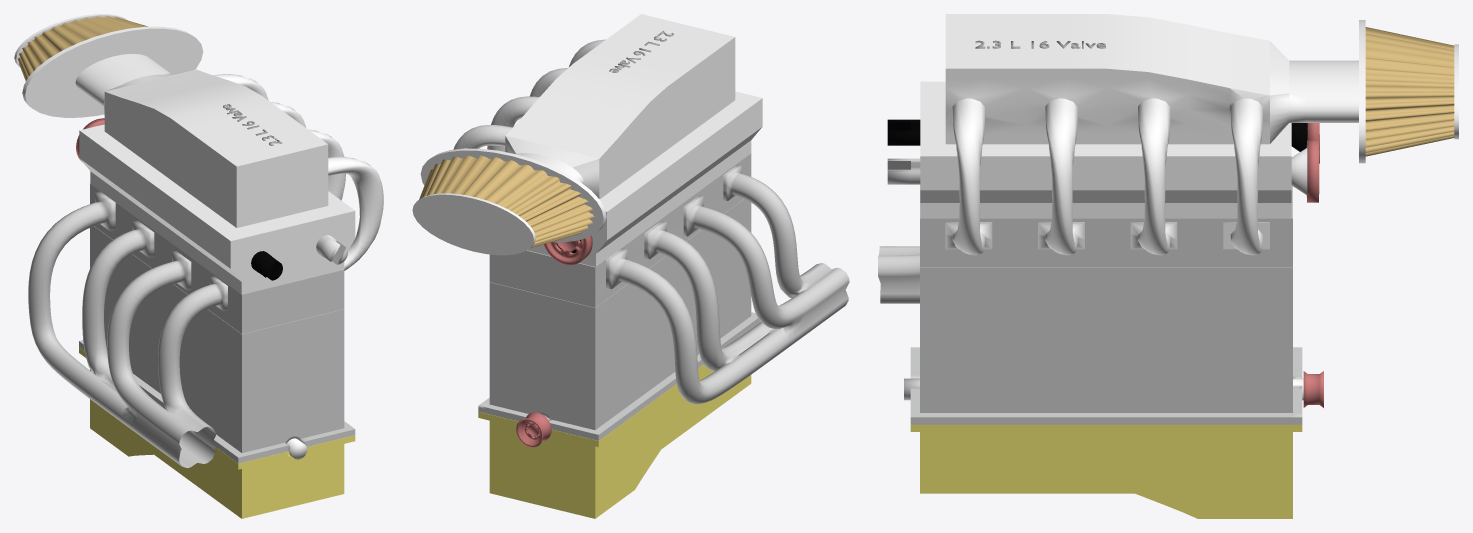
The model's file is Gas_Engine.glb.
3 renders of one model, left to right at view 1: azimuth 30°, elevation 25°; view 2: azimuth 150°, elevation 25°; view 3: azimuth 270°, elevation 25°, orthographic. The views are drawn at different scales.
Visible parts, largest first — view 1: intake, block, exhaust.001, valve cover, oil pan, head, exhaust, air filter, cam int, cam exh; view 2: intake, block, exhaust.001, oil pan, valve cover, air filter, head, exhaust, crank pulley, cam pulley int; view 3: intake, block, oil pan, valve cover, head, air filter, exhaust.001, cam int, cam exh, cam pulley exh, crank pulley.
Boxes of the visible parts, x1=… form: intake: x1=14, y1=14, x2=383, y2=270; block: x1=79, y1=226, x2=355, y2=463; exhaust.001: x1=28, y1=191, x2=227, y2=467; valve cover: x1=79, y1=124, x2=355, y2=294; oil pan: x1=79, y1=347, x2=355, y2=518; head: x1=90, y1=184, x2=344, y2=333; exhaust: x1=28, y1=193, x2=227, y2=467; air filter: x1=18, y1=16, x2=147, y2=80; cam int: x1=316, y1=235, x2=347, y2=264; cam exh: x1=251, y1=251, x2=282, y2=280; intake: x1=412, y1=14, x2=735, y2=255; block: x1=478, y1=199, x2=760, y2=440; exhaust.001: x1=606, y1=165, x2=849, y2=404; oil pan: x1=478, y1=364, x2=751, y2=518; valve cover: x1=527, y1=91, x2=762, y2=266; air filter: x1=419, y1=155, x2=594, y2=247; head: x1=489, y1=153, x2=751, y2=307; exhaust: x1=606, y1=165, x2=848, y2=403; crank pulley: x1=516, y1=412, x2=551, y2=447; cam pulley int: x1=544, y1=235, x2=592, y2=264; intake: x1=945, y1=14, x2=1458, y2=255; block: x1=910, y1=267, x2=1302, y2=424; oil pan: x1=910, y1=424, x2=1302, y2=518; valve cover: x1=920, y1=81, x2=1291, y2=218; head: x1=920, y1=157, x2=1292, y2=266; air filter: x1=1365, y1=27, x2=1454, y2=156; exhaust.001: x1=878, y1=246, x2=919, y2=303; cam int: x1=887, y1=148, x2=1307, y2=194; cam exh: x1=887, y1=119, x2=1307, y2=151; cam pulley exh: x1=1306, y1=140, x2=1319, y2=202; crank pulley: x1=1303, y1=371, x2=1323, y2=407.
Size of the model in its own units: 4.09 by 5.94 by 6.98.
